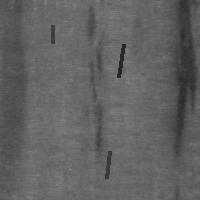inclusion: (168, 2, 199, 164), (1, 6, 31, 166), (84, 29, 108, 163), (83, 4, 96, 46), (116, 42, 125, 79), (104, 149, 111, 180), (50, 23, 54, 45)
